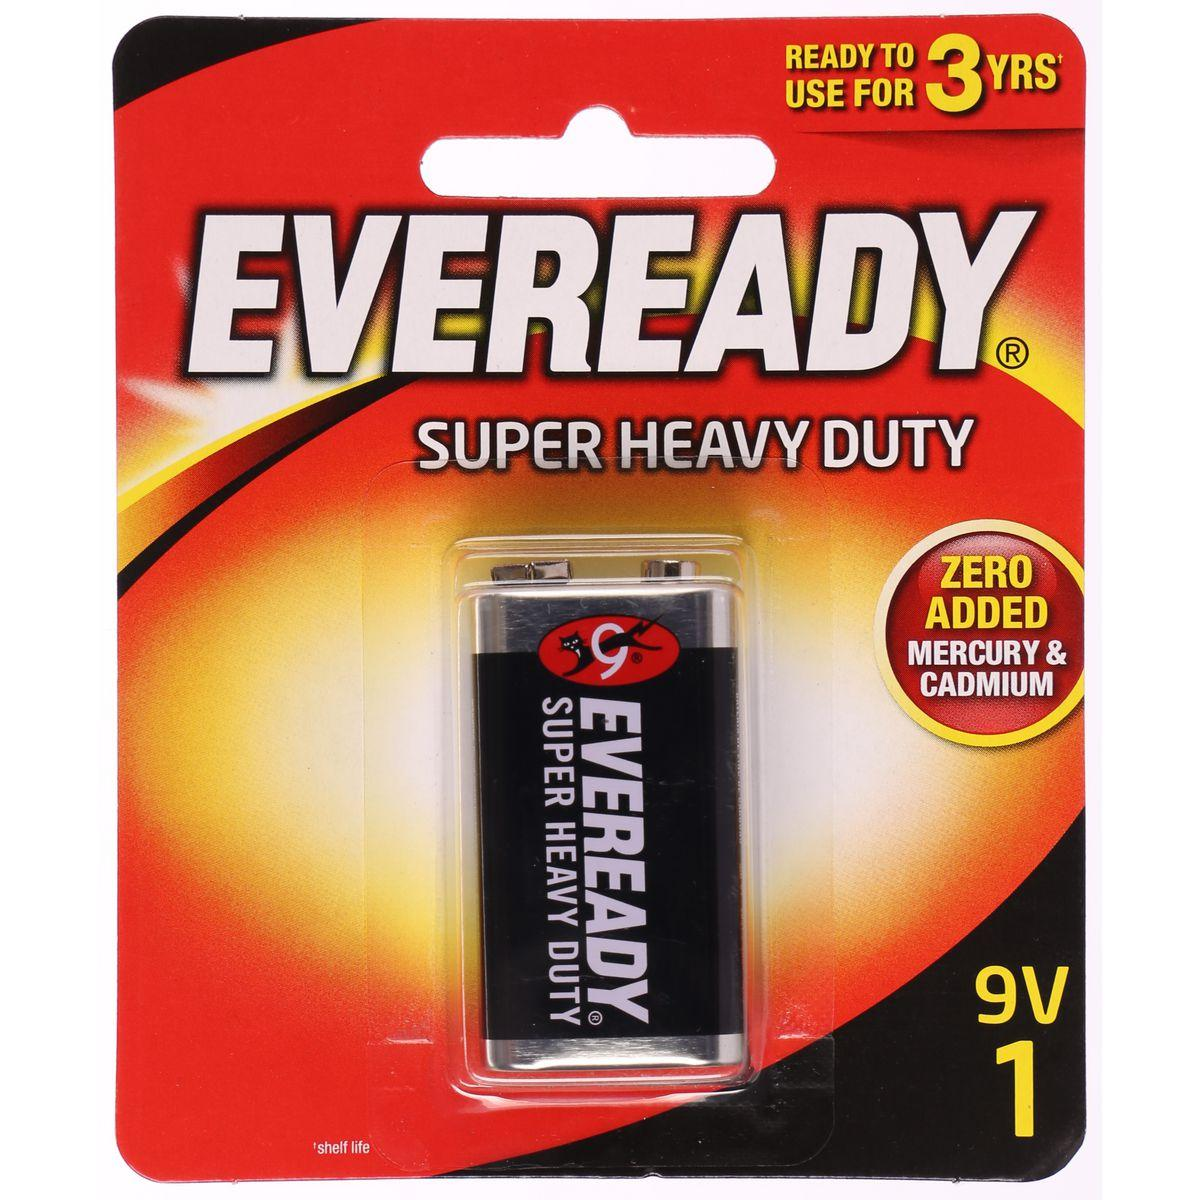9V Battery: (462, 560, 746, 1073)
